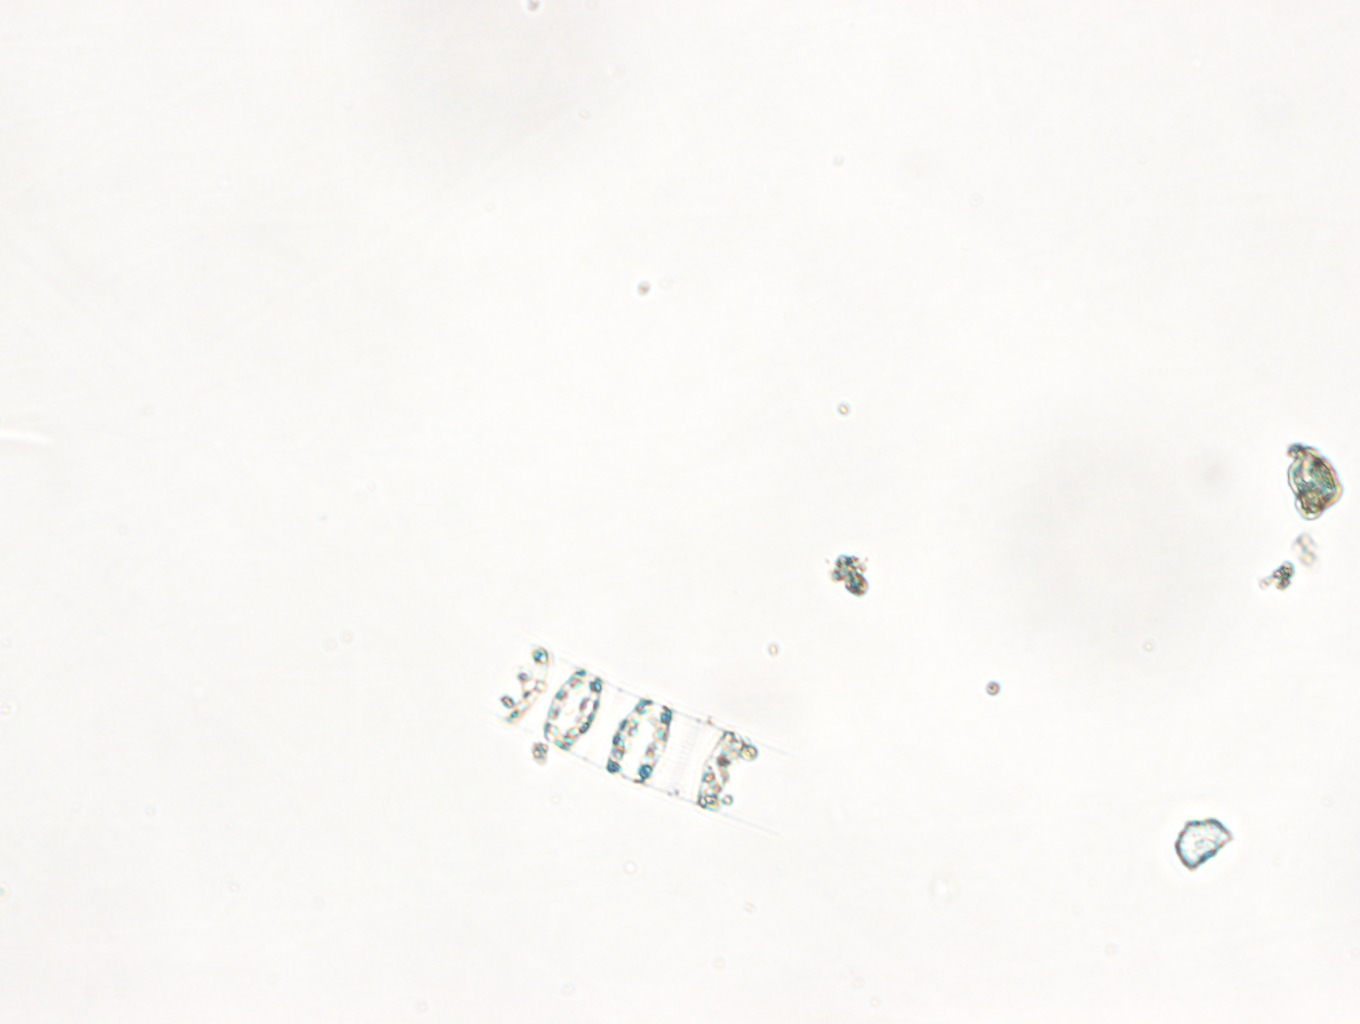skeletonema: (489, 628, 759, 817)
